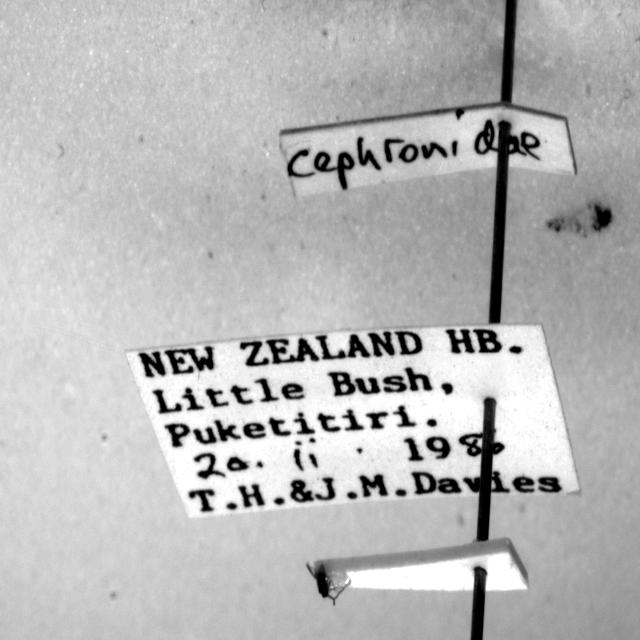hand_label: (280, 103, 576, 195)
mixed_label: (126, 324, 579, 518)
